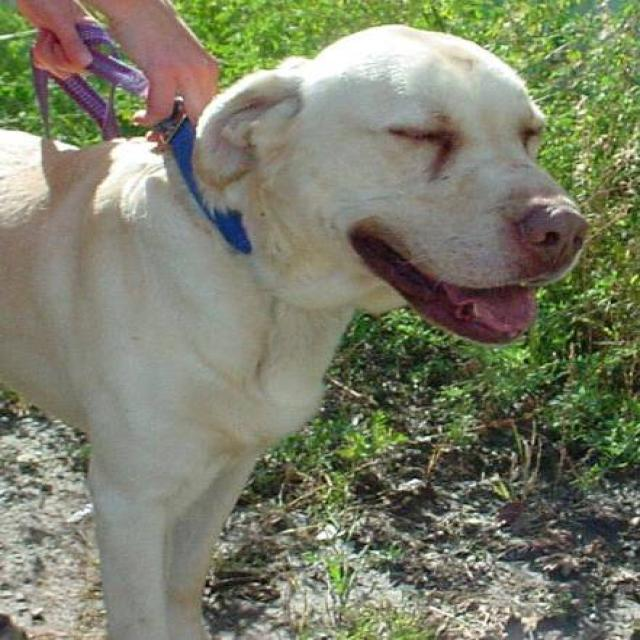dog: (0, 22, 589, 639)
